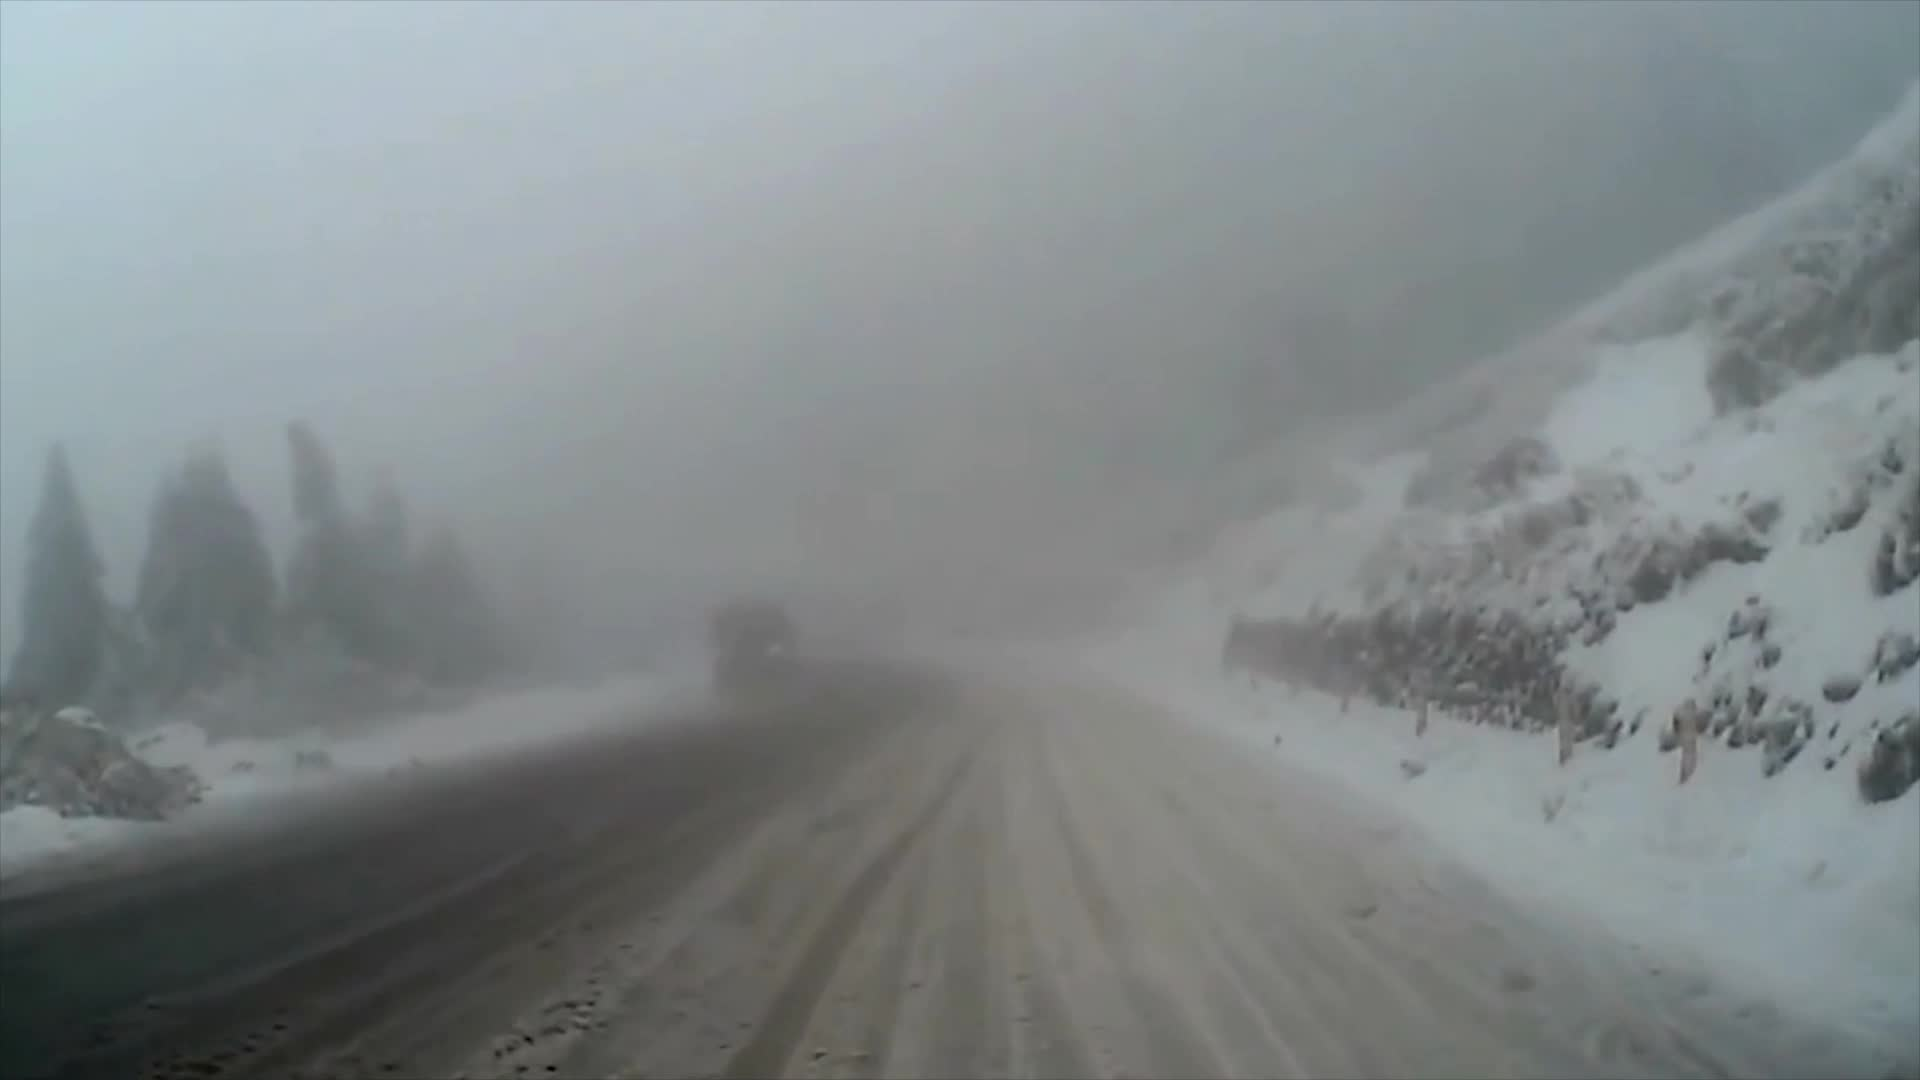vehicle: (702, 603, 800, 695)
